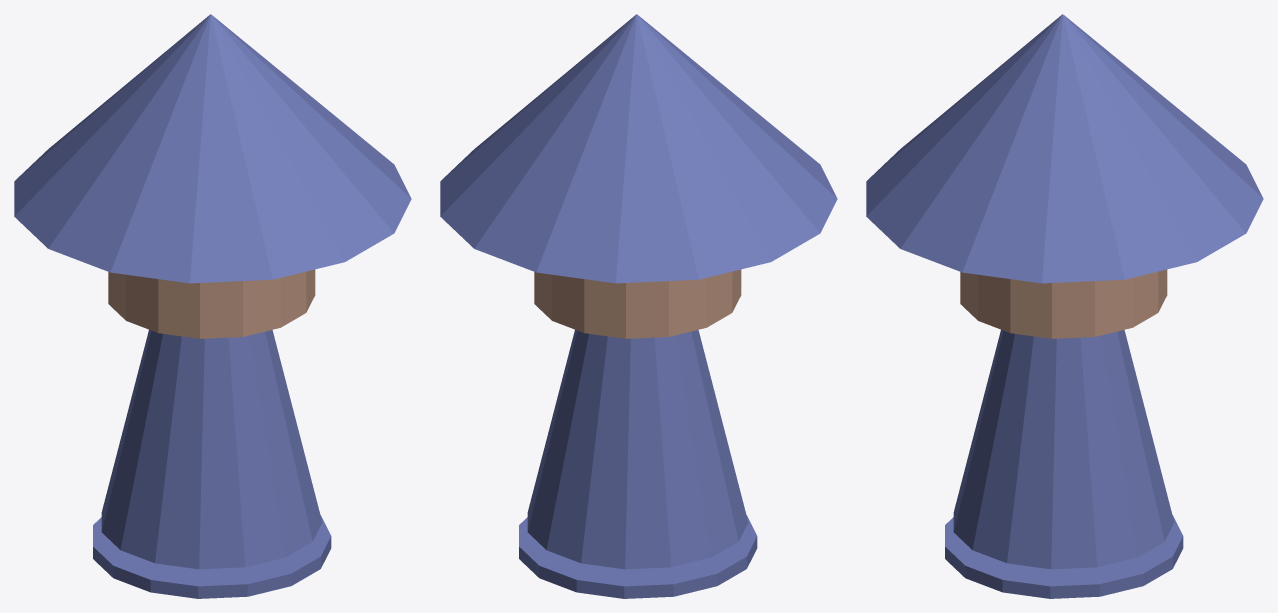
The model's file is Enemy (1).fbx.
The picture shows the model from 3 angles, left to right: view 1: azimuth 30°, elevation 25°; view 2: azimuth 150°, elevation 25°; view 3: azimuth 270°, elevation 25°; orthographic projection.
Visible parts, largest first — view 1: Enemy; view 2: Enemy; view 3: Enemy.
Part boxes in pixels (left/top/right/bottom): Enemy: left=14, top=14, right=411, bottom=598; Enemy: left=440, top=14, right=837, bottom=598; Enemy: left=866, top=14, right=1263, bottom=598.
Size of the model in its own units: 1951 by 2878 by 1940.
